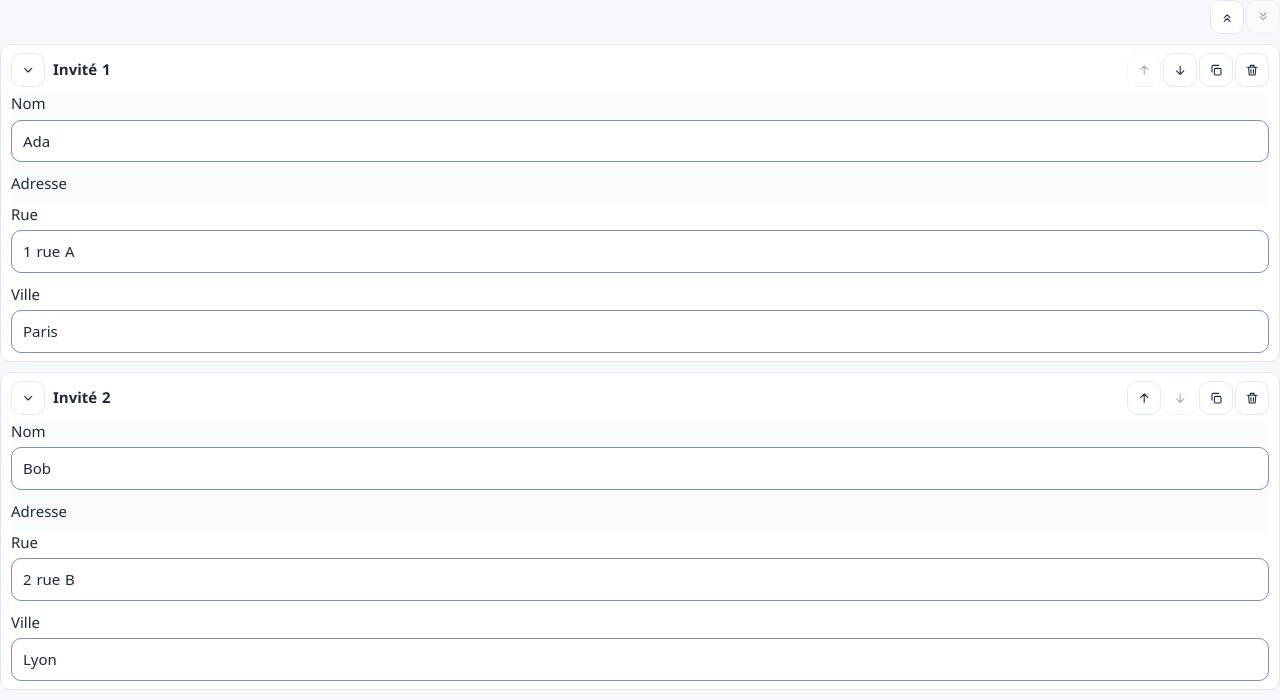
Scenario: Lignes répétées : replier et déplier › replier une ligne la cache et la résume ; la valeur reste entière
The image size is (1280, 700).
Click the button named "Replier invité 1".
click(28, 70)  # box x1=11 y1=53 x2=45 y2=87
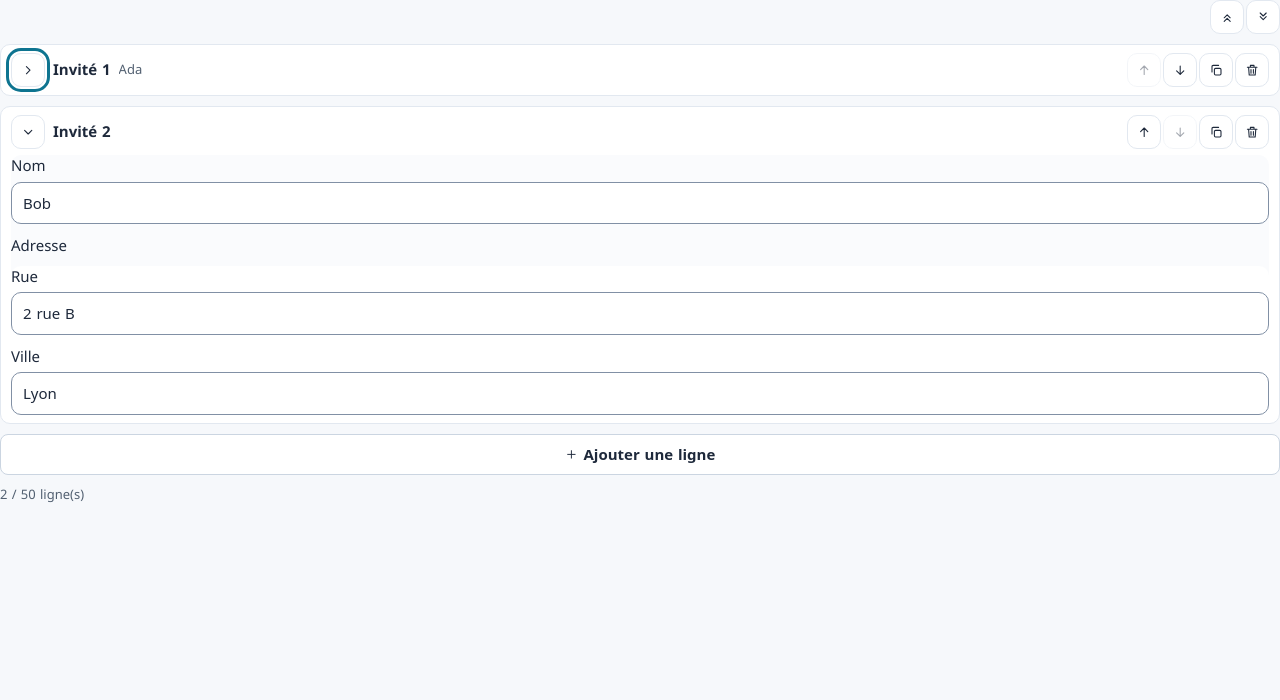
Expected: the button named "Déplier invité 1" is collapsed
Expected: the text "Ada" is shown, x1=119 y1=60 x2=142 y2=78
Click the button named "Déplier invité 1".
click(28, 70)  # box x1=11 y1=53 x2=45 y2=87
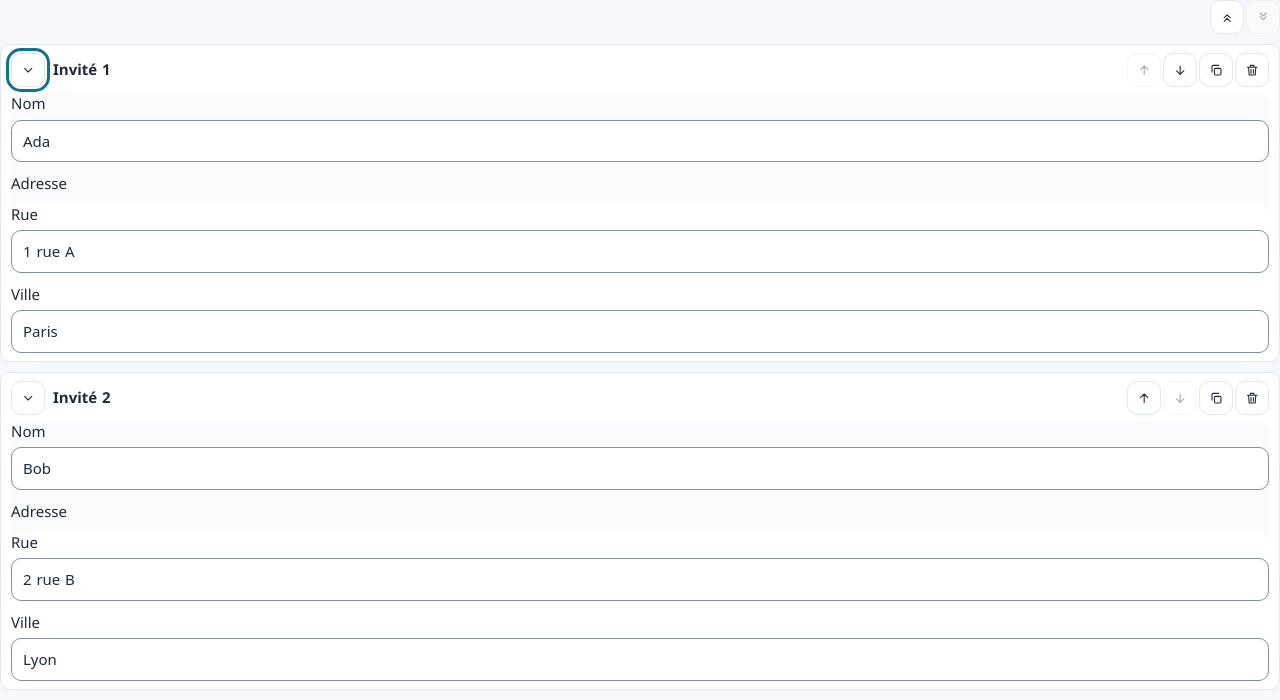
Expected: the 1st field labelled "Nom" holds "Ada", x1=11 y1=120 x2=1269 y2=162
